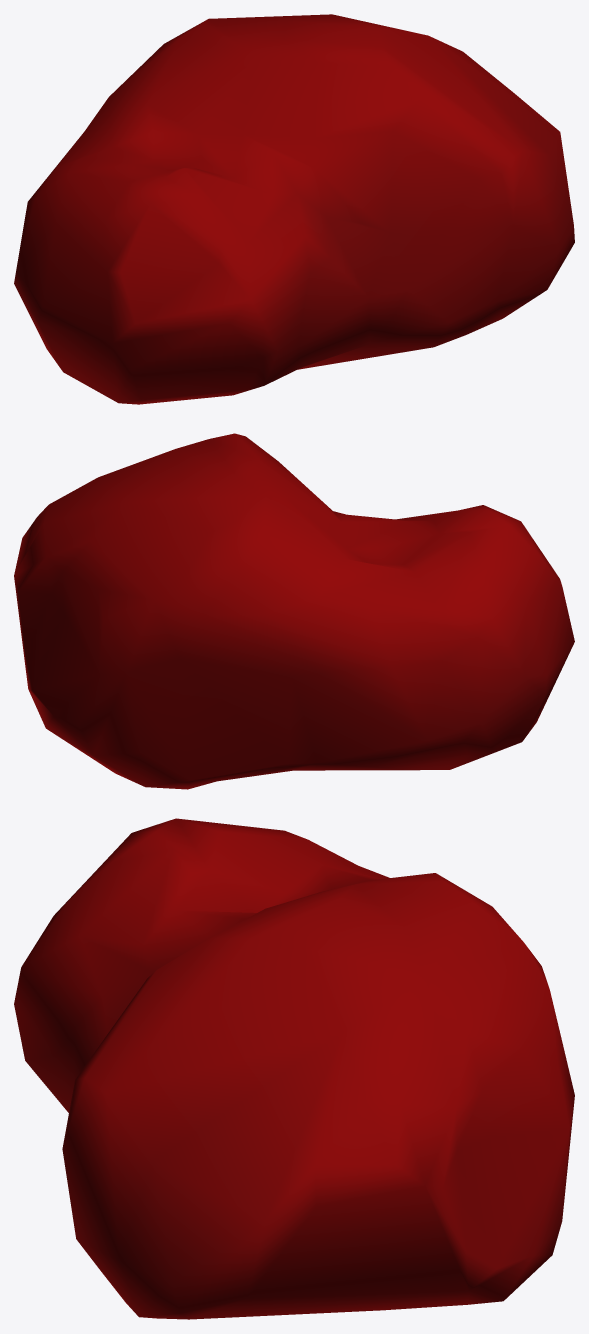
The model's file is geology-rocks-rocksmall_v6.fbx.
The picture shows the model from 3 angles, top to bottom: view 1: azimuth 30°, elevation 25°; view 2: azimuth 150°, elevation 25°; view 3: azimuth 270°, elevation 25°; orthographic projection. The views are drawn at different scales.
Parts seen in each view (by area): view 1: RockSmall_v6; view 2: RockSmall_v6; view 3: RockSmall_v6.
Part boxes in pixels (<box>): RockSmall_v6: <box>14,14,574,404</box>; RockSmall_v6: <box>14,433,574,789</box>; RockSmall_v6: <box>14,818,574,1319</box>.
Bounding box in the file's own units: 1.42 × 0.7487 × 1.02.
